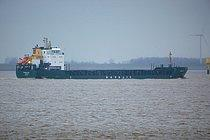Ship: (15, 36, 192, 84)
